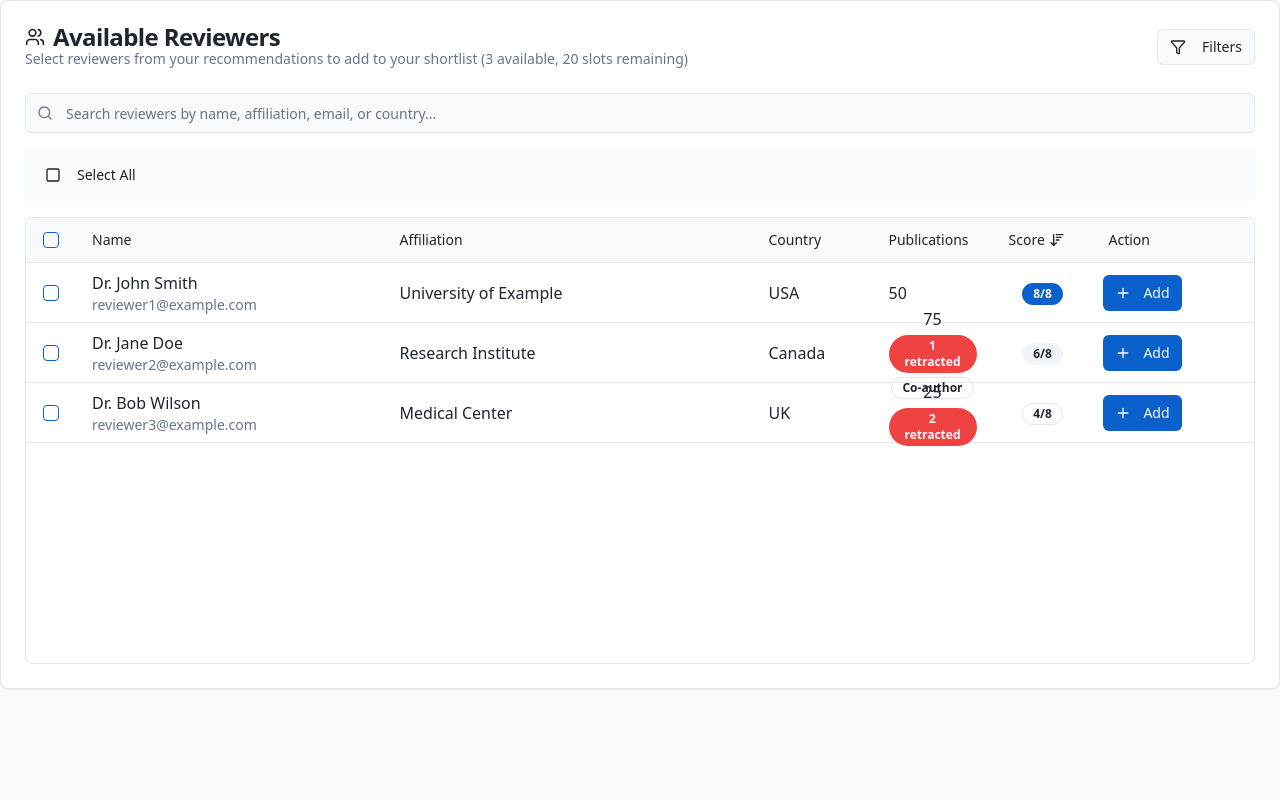
ReviewerSelection › filters out co-authors when exclude co-authors is checked
Open filters
Click the button "Filters" at (1206, 47), box 1157,29 -> 1255,65
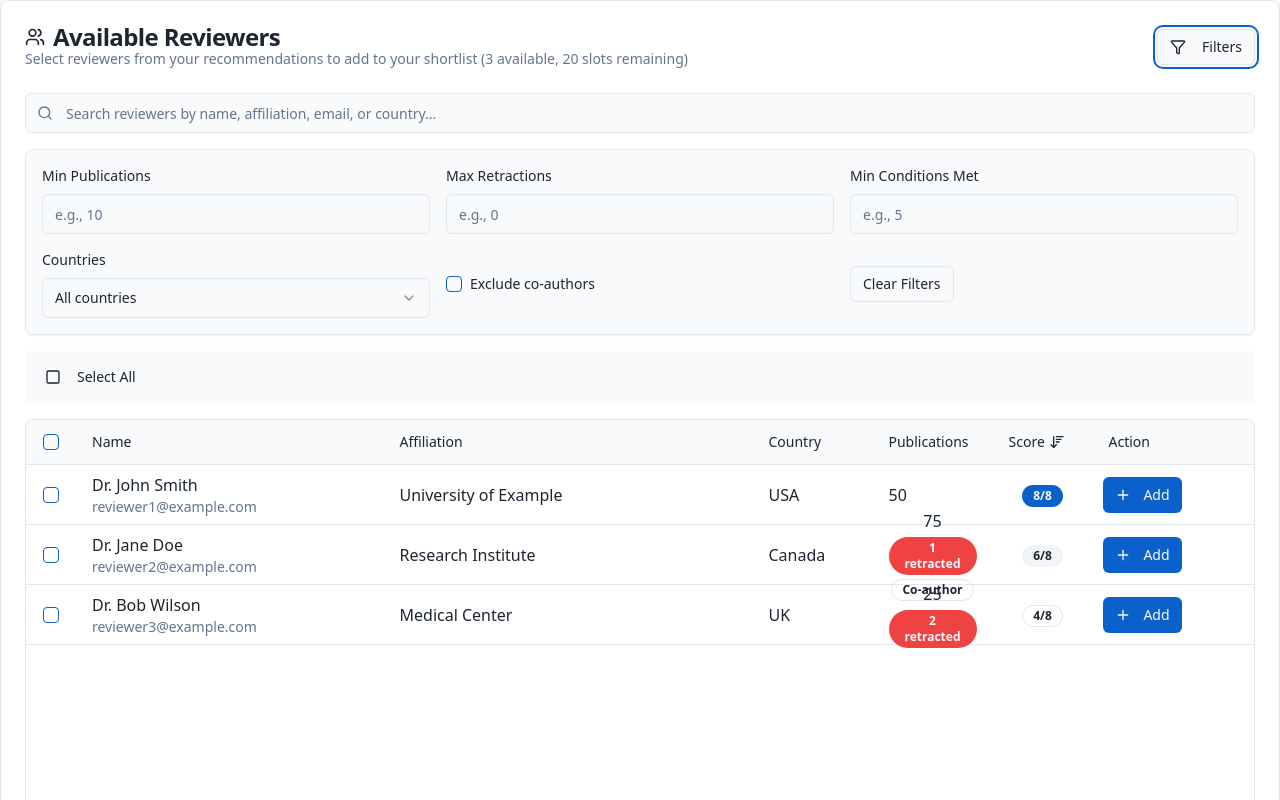
Check exclude co-authors
Click the checkbox named "Exclude co-authors" at (454, 284), box 446,276 -> 462,292
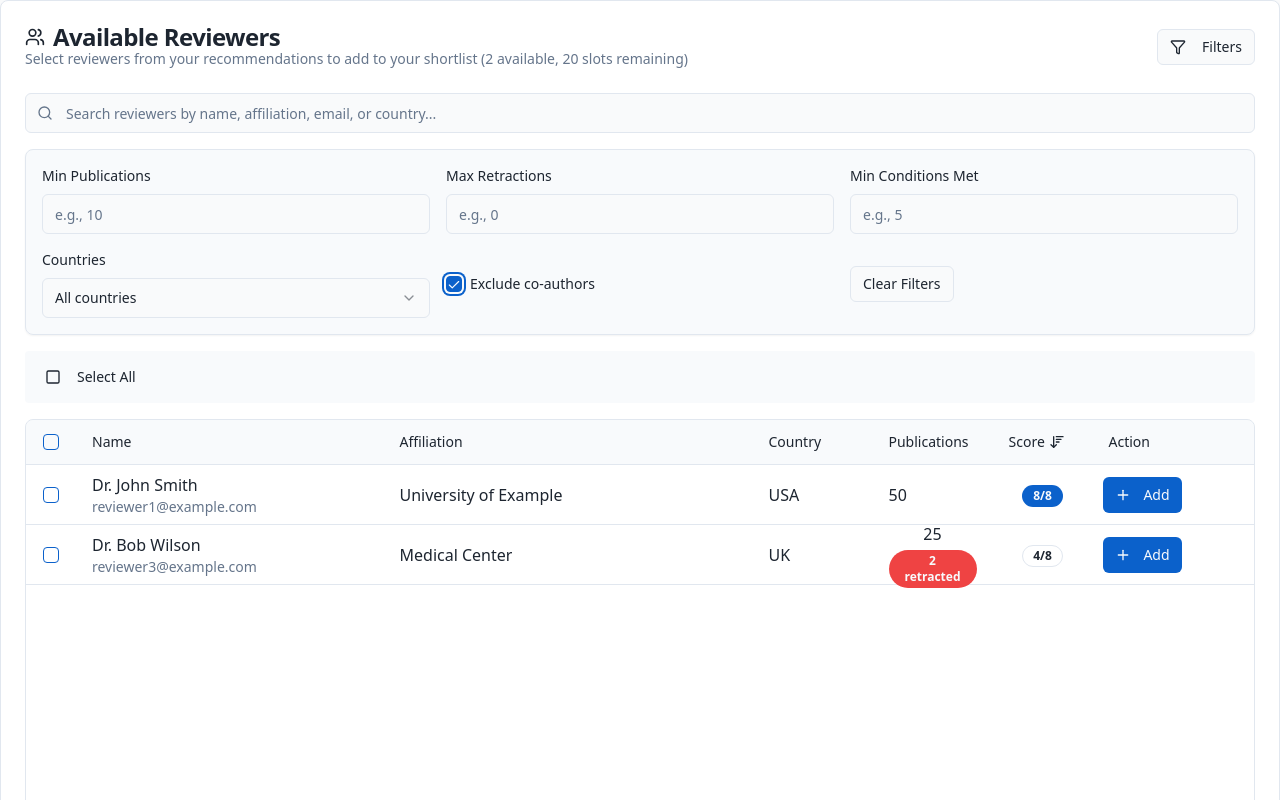
Expected: the text "Dr. John Smith" is shown, 92,474 -> 198,496
Result: the text "Dr. Jane Doe" is gone
